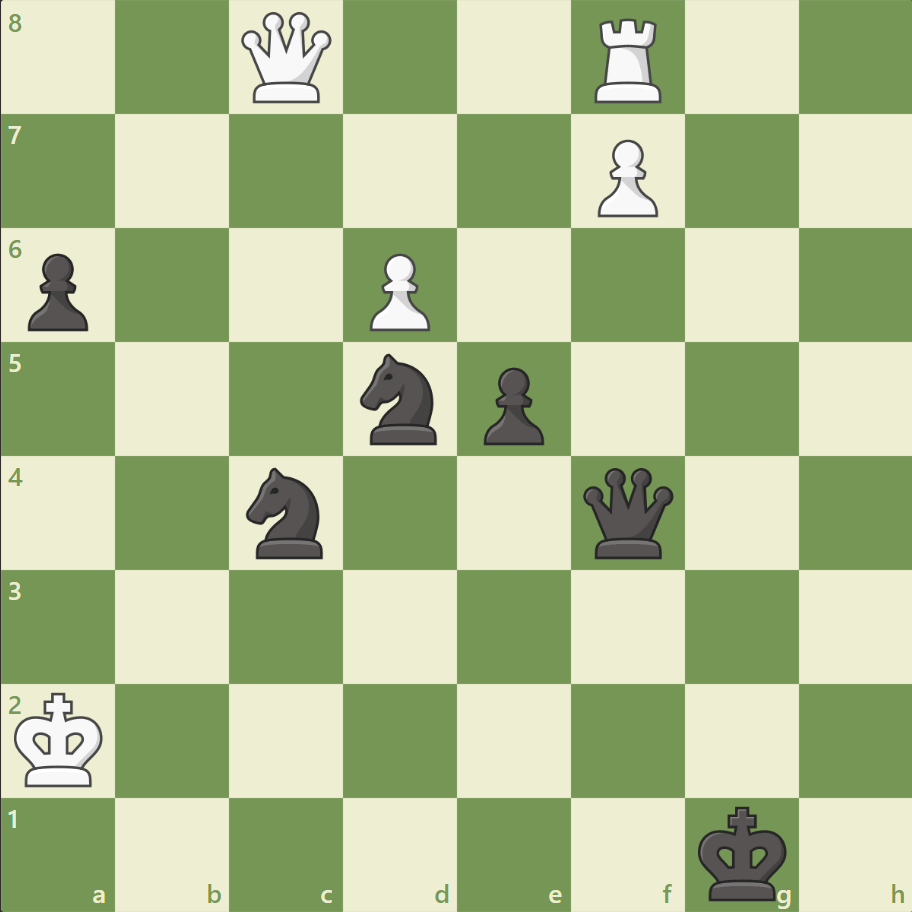K: (11, 685, 111, 793)
P: (588, 132, 662, 223), (361, 246, 435, 337)
Q: (237, 9, 336, 108)
R: (587, 12, 670, 109)
k: (692, 798, 792, 906)
n: (351, 348, 449, 450), (238, 461, 335, 564)
p: (20, 246, 95, 337), (474, 359, 549, 450)
q: (578, 463, 677, 562)
